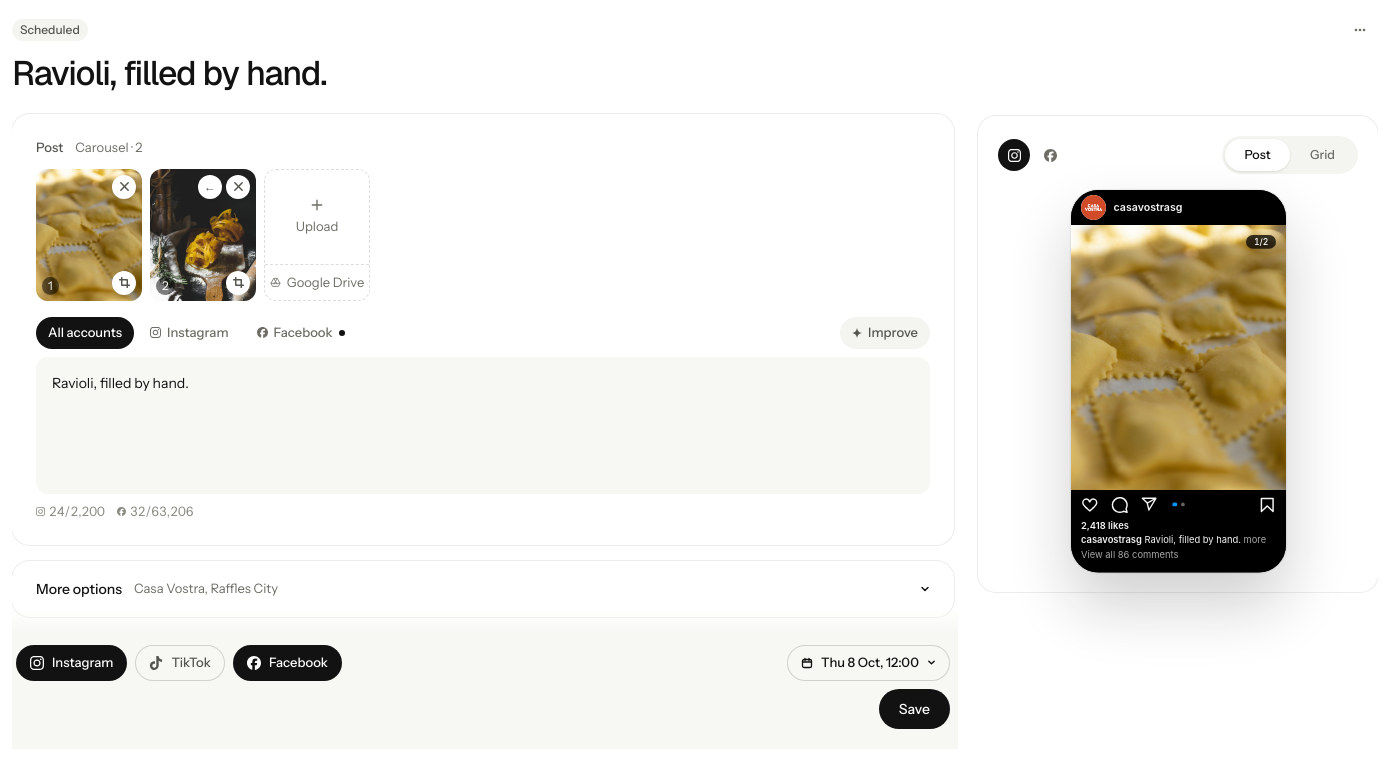
Scenario: the composer on the API › opens a post saved with its own Facebook text on the tabs, that text in view
Step 1. Click the tab "Facebook" → {"x": 301, "y": 333}, box [245,317,357,349]
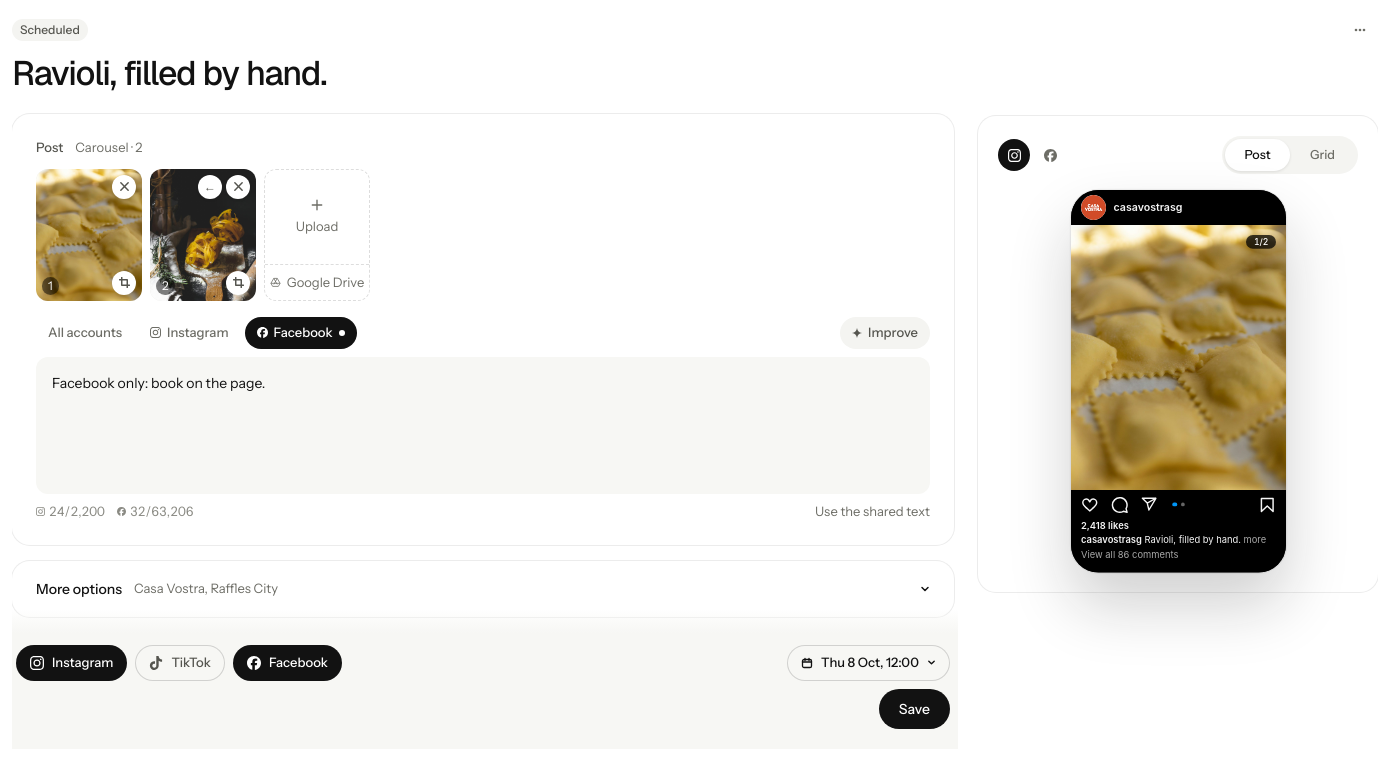
Expected: the text box named "Facebook text" holds "Facebook only: book on the page.", [36,357,930,494]
